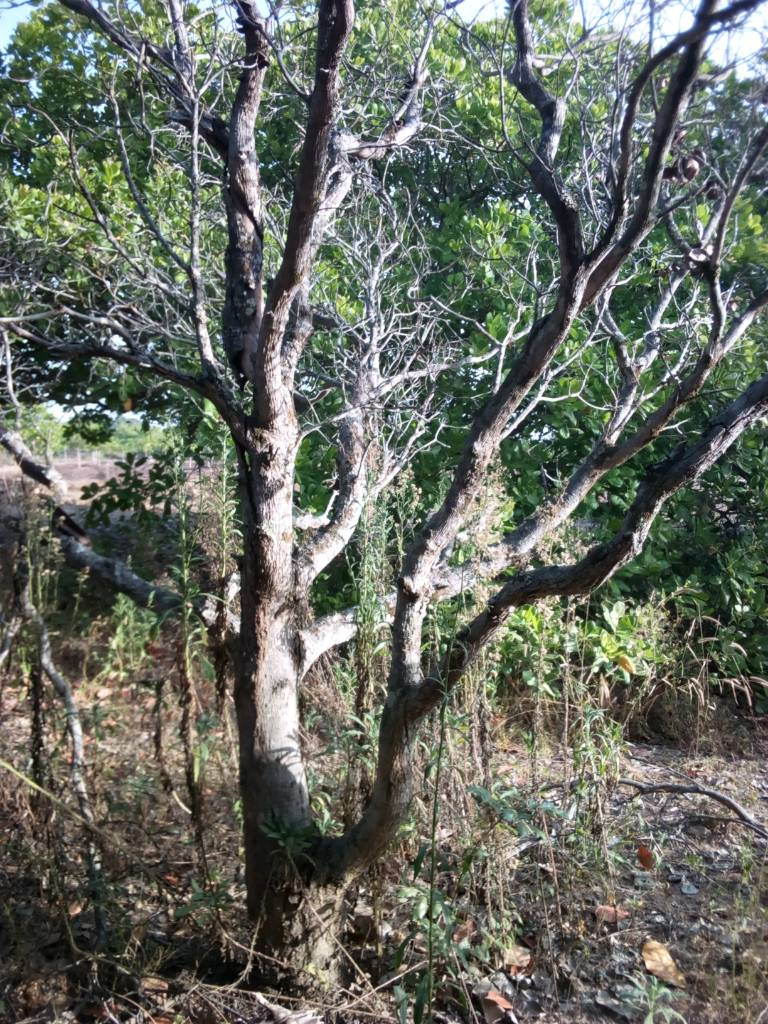Termites: (247, 485, 283, 747)
